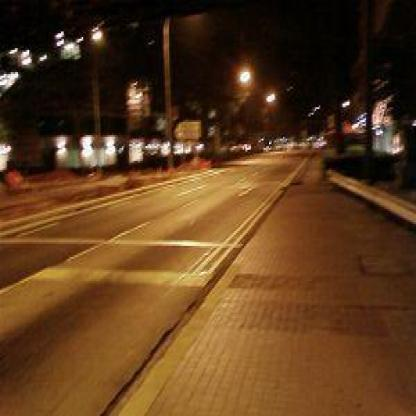other: (222, 56, 284, 111)
